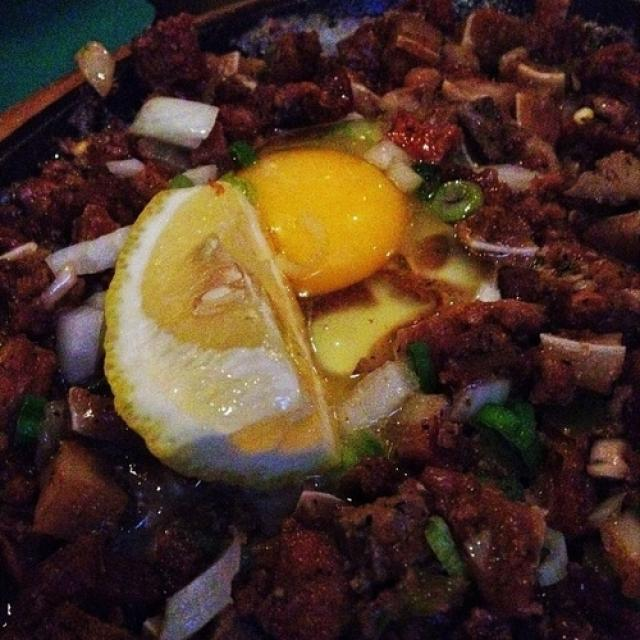猪肉菜式: (27, 28, 617, 608)
